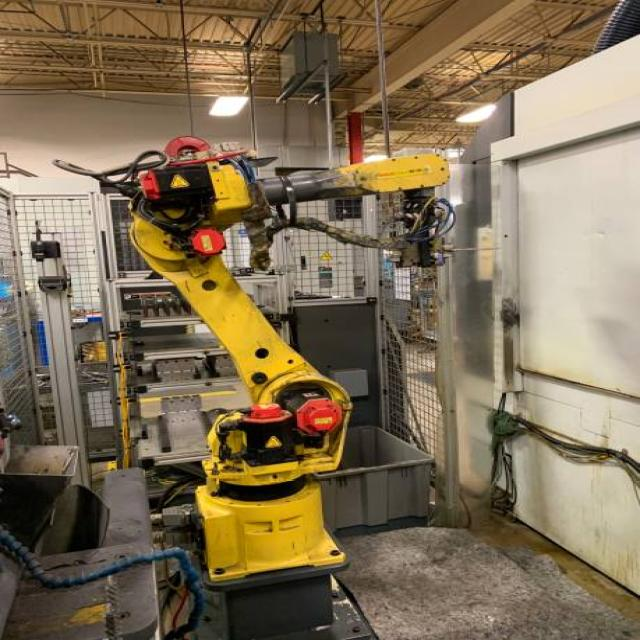Robotic-arm: (100, 139, 463, 640)
